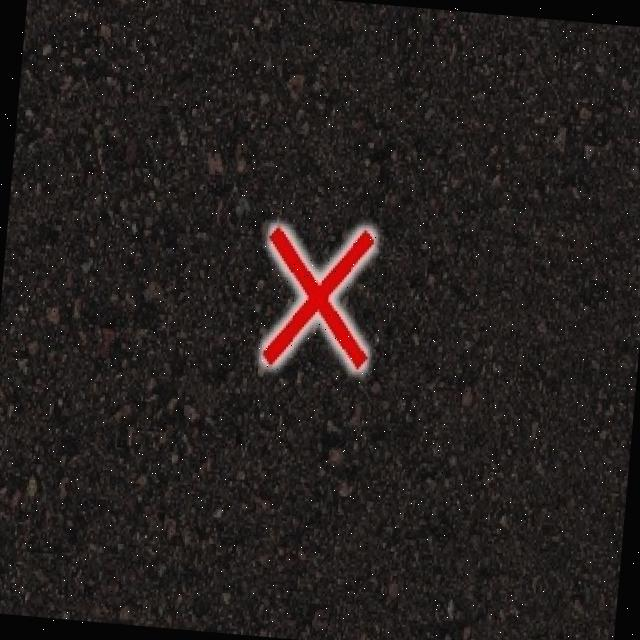x_marker: (259, 220, 375, 370)
